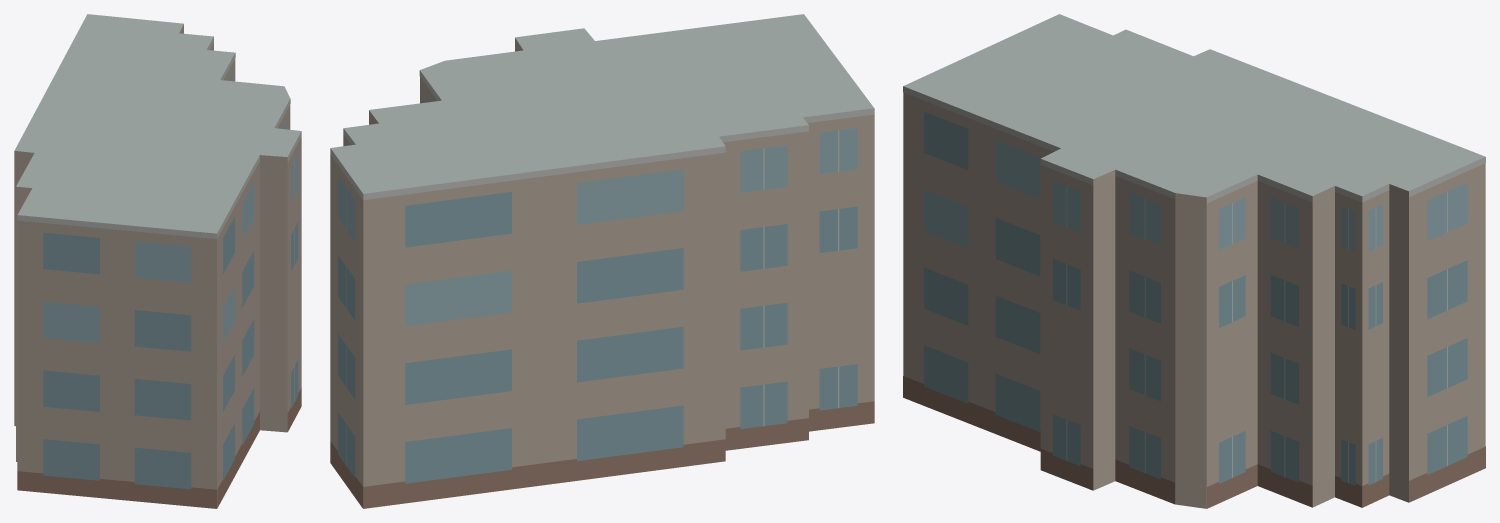
File: survey-upis-32463605.glb
3 renders of one model, left to right at view 1: azimuth 30°, elevation 25°; view 2: azimuth 150°, elevation 25°; view 3: azimuth 270°, elevation 25°, orthographic. The views are drawn at different scales.
Visible parts, largest first — view 1: survey-upis-32463605.tmp; view 2: survey-upis-32463605.tmp; view 3: survey-upis-32463605.tmp.
Boxes of the visible parts, x1=… form: survey-upis-32463605.tmp: x1=14, y1=14, x2=301, y2=508; survey-upis-32463605.tmp: x1=330, y1=14, x2=874, y2=508; survey-upis-32463605.tmp: x1=903, y1=14, x2=1485, y2=508.
Bounding box in the file's own units: 15.54 × 12.3 × 20.86.
